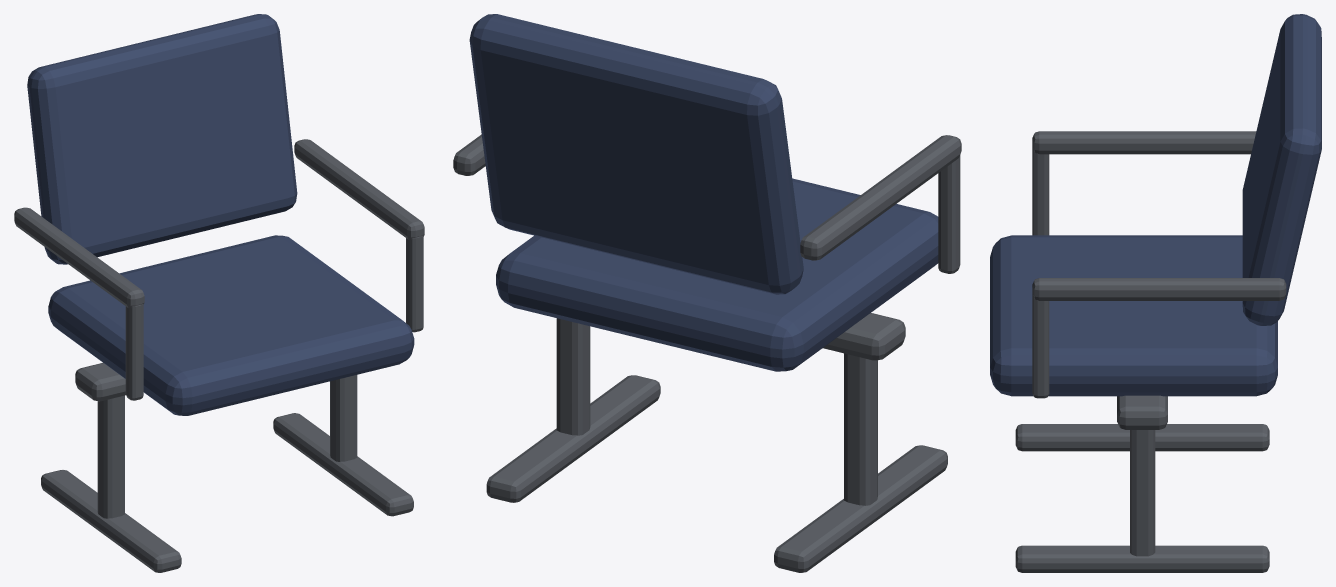
The model's file is wait_chair.glb.
3 views of the same model, side by side, from view 1: azimuth 30°, elevation 25°; view 2: azimuth 150°, elevation 25°; view 3: azimuth 270°, elevation 25° (orthographic). The views are drawn at different scales.
Visible parts, largest first — view 1: WaitChairMesh; view 2: WaitChairMesh; view 3: WaitChairMesh.
Boxes of the visible parts, left/top/right/bottom form: WaitChairMesh: left=14, top=14, right=424, bottom=572; WaitChairMesh: left=453, top=14, right=961, bottom=572; WaitChairMesh: left=990, top=14, right=1321, bottom=572.
Size of the model in its own units: 0.435 by 0.5677 by 0.3918.
